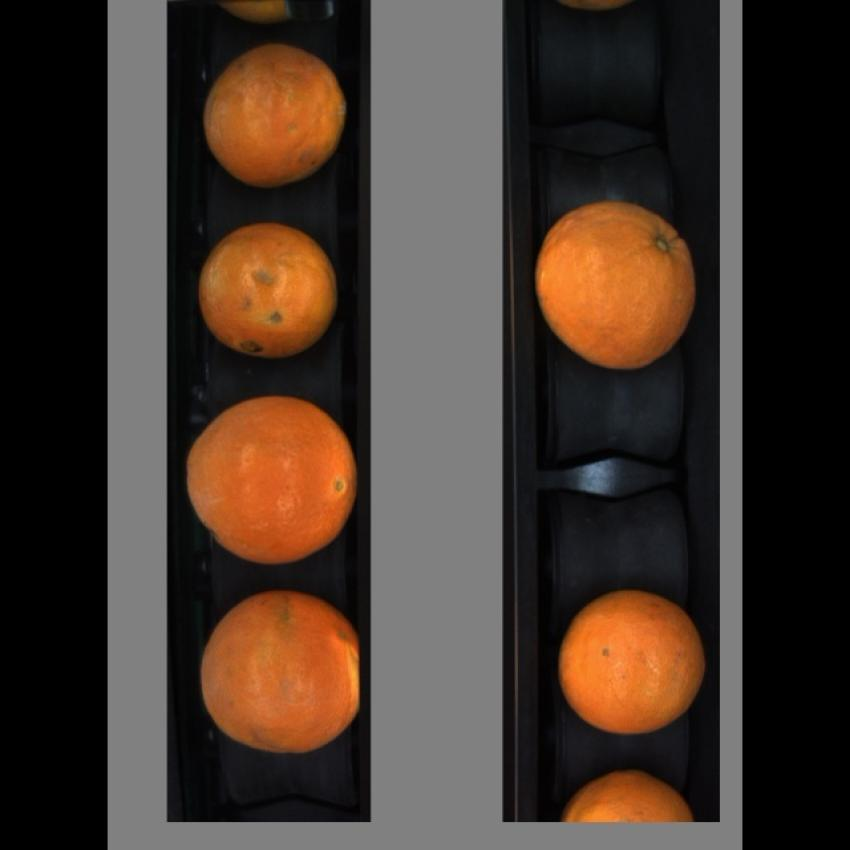Buen estado: (552, 580, 705, 742), (562, 769, 696, 822)
Mal estado: (181, 390, 362, 574), (523, 197, 704, 377), (190, 583, 364, 761), (187, 38, 356, 193), (188, 214, 354, 369)
